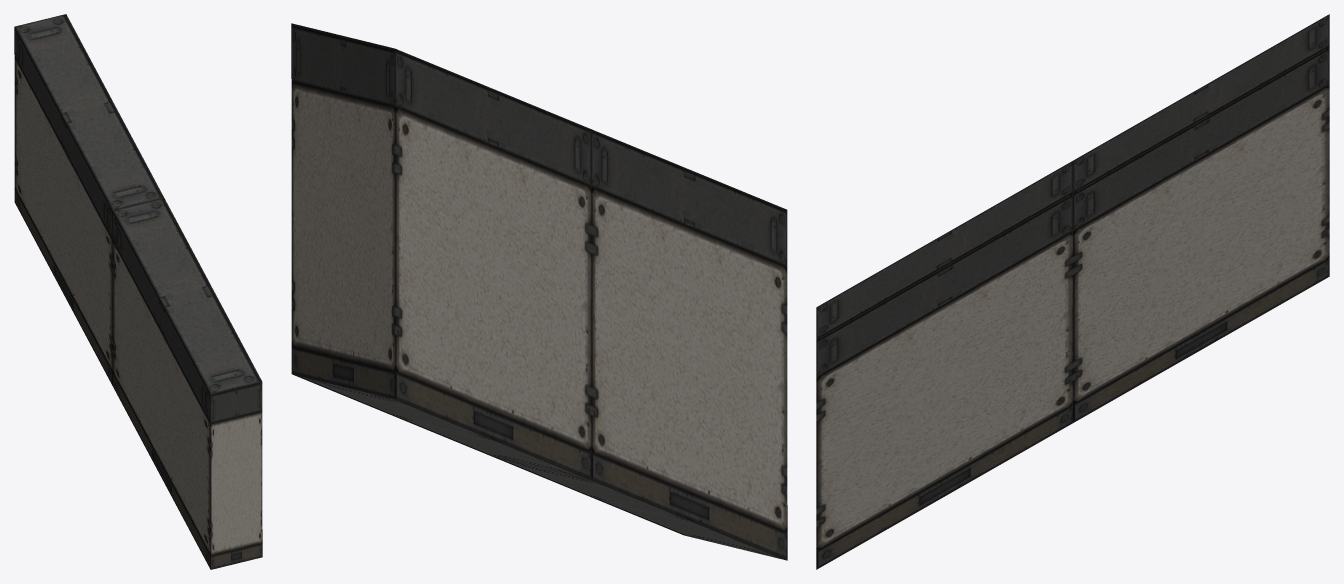
File: loutifushou3.FBX
The picture shows the model from 3 angles, left to right: view 1: azimuth 30°, elevation 25°; view 2: azimuth 150°, elevation 25°; view 3: azimuth 270°, elevation 25°; orthographic projection. The views are drawn at different scales.
Visible parts, largest first — view 1: Box002; view 2: Box002; view 3: Box002.
Part boxes in pixels (x1,y1,x2,y2): Box002: (14,14,262,569); Box002: (291,23,787,560); Box002: (816,14,1329,569).
Bounding box in the file's own units: 7.24 × 53.42 × 47.54.
